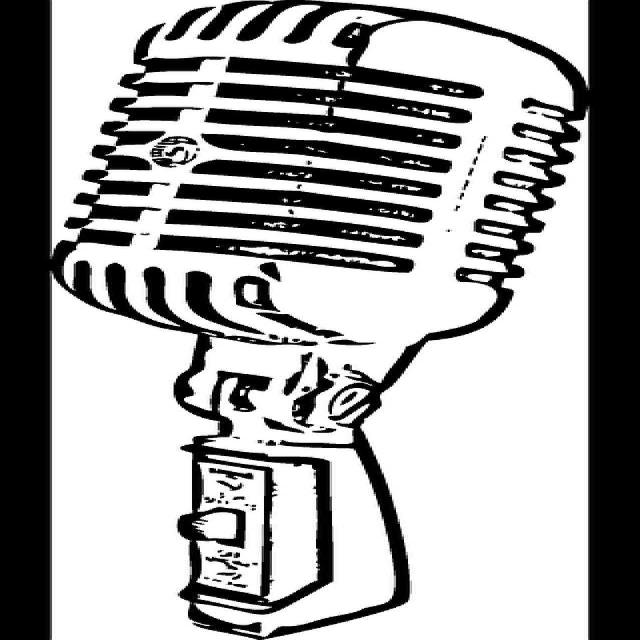microphone: (48, 8, 585, 636)
